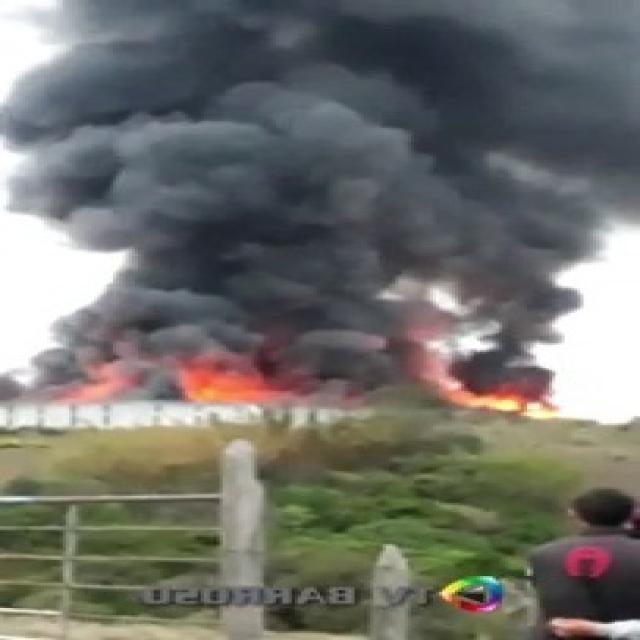Fire: (167, 364, 286, 411), (464, 387, 563, 425)
Smoke: (12, 0, 640, 355)
